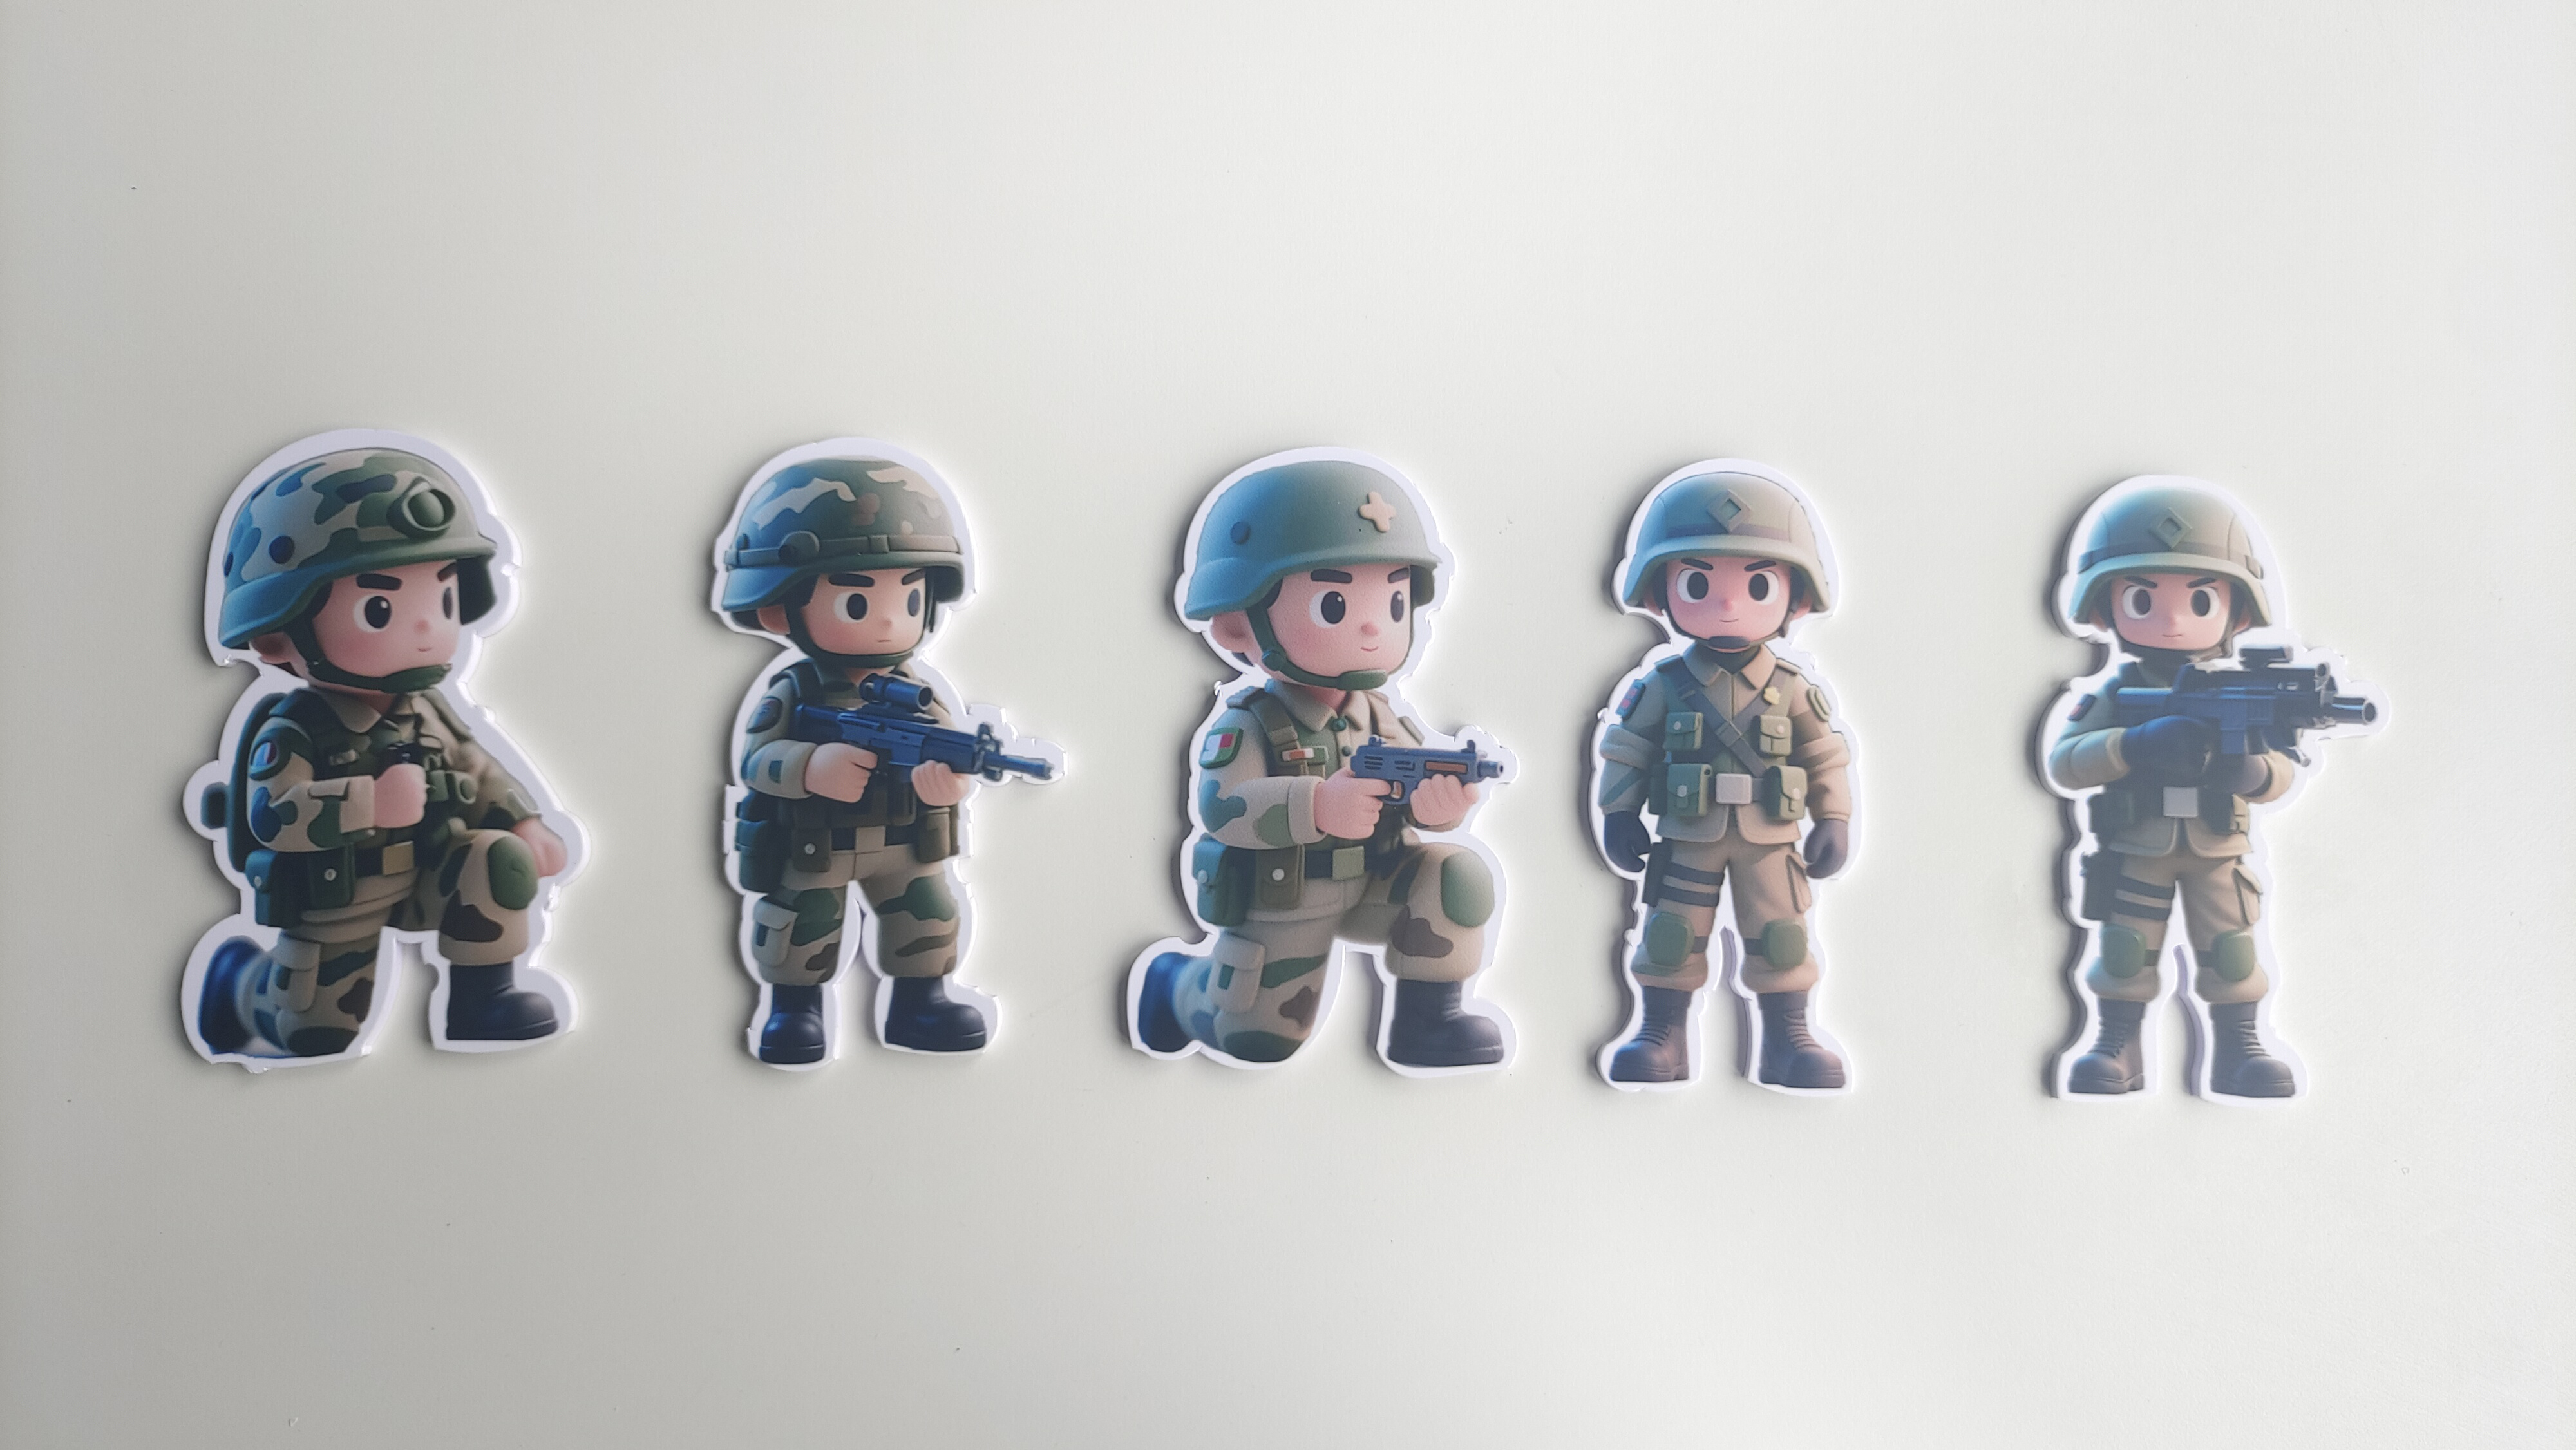friend: (1116, 686, 1522, 1093), (165, 697, 587, 1084), (1566, 644, 1882, 1107), (2022, 654, 2319, 1130), (692, 663, 1021, 1065)
